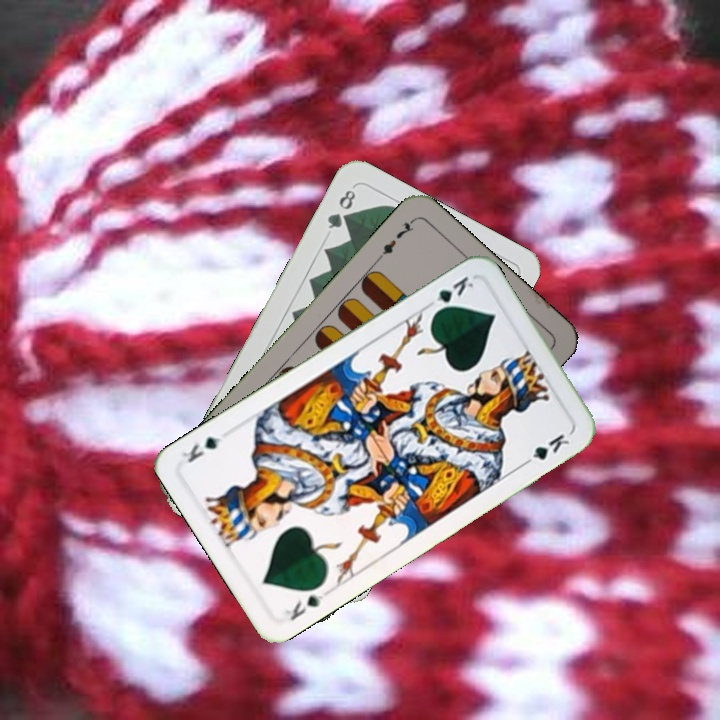E7: (373, 215, 417, 263)
G8: (323, 185, 358, 232)
GK: (428, 272, 476, 317), (281, 590, 326, 623)
